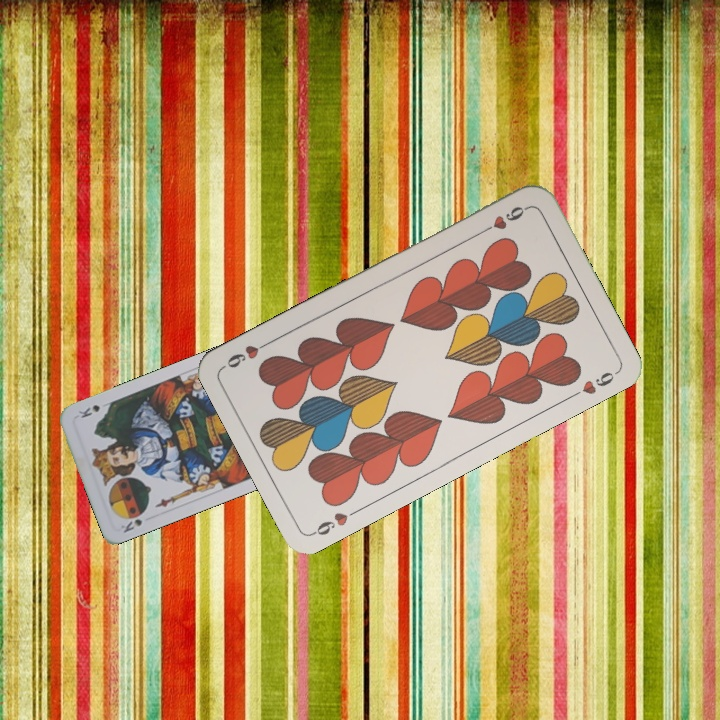H9: (477, 202, 532, 236), (308, 504, 363, 538)
SK: (117, 515, 145, 535)
